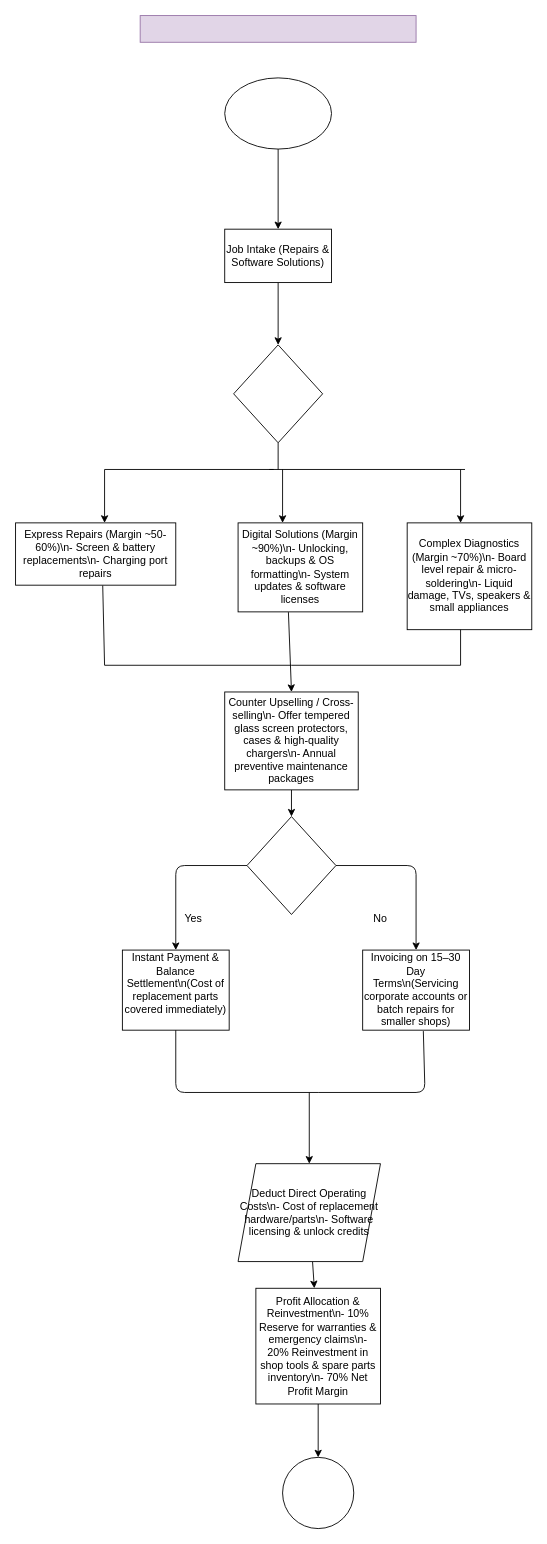
This 547x1544 diagram has some shape labels left out. Here are the shapes that lost their labels. From the top down, the centre of each, then its label:
the point at 277,28: Dayagram for generate money.
the point at 278,113: Start
the point at 278,393: What type of service is requested?
the point at 291,865: Does the client pay instantly?
the point at 318,1492: End
